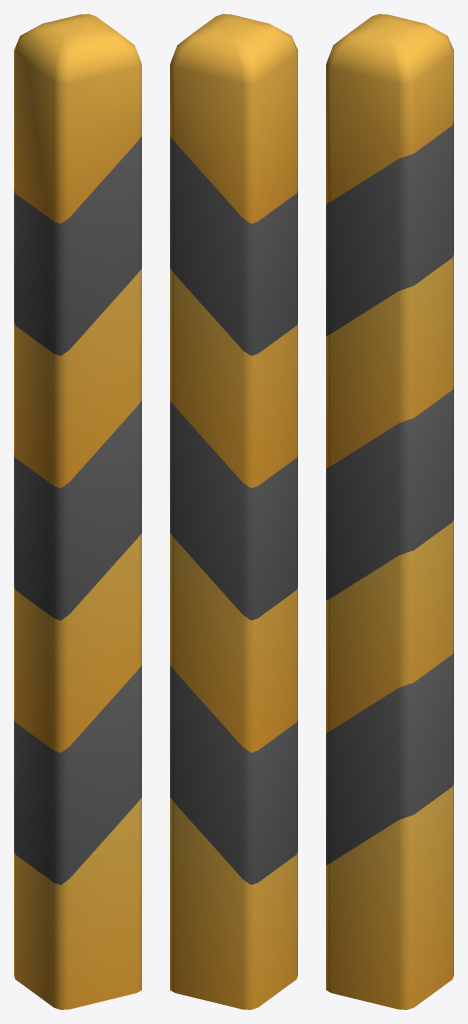
The model's file is gateBar.fbx.
3 renders of one model, left to right at view 1: azimuth 30°, elevation 25°; view 2: azimuth 150°, elevation 25°; view 3: azimuth 330°, elevation 25°, orthographic.
Parts seen in each view (by area): view 1: gateBar; view 2: gateBar; view 3: gateBar.
Boxes of the visible parts, box(x1,y1,x2,y2) form: gateBar: box(14, 14, 141, 1009); gateBar: box(170, 14, 297, 1009); gateBar: box(326, 14, 453, 1009).
Bounding box in the file's own units: 28.17 × 297 × 28.17.
